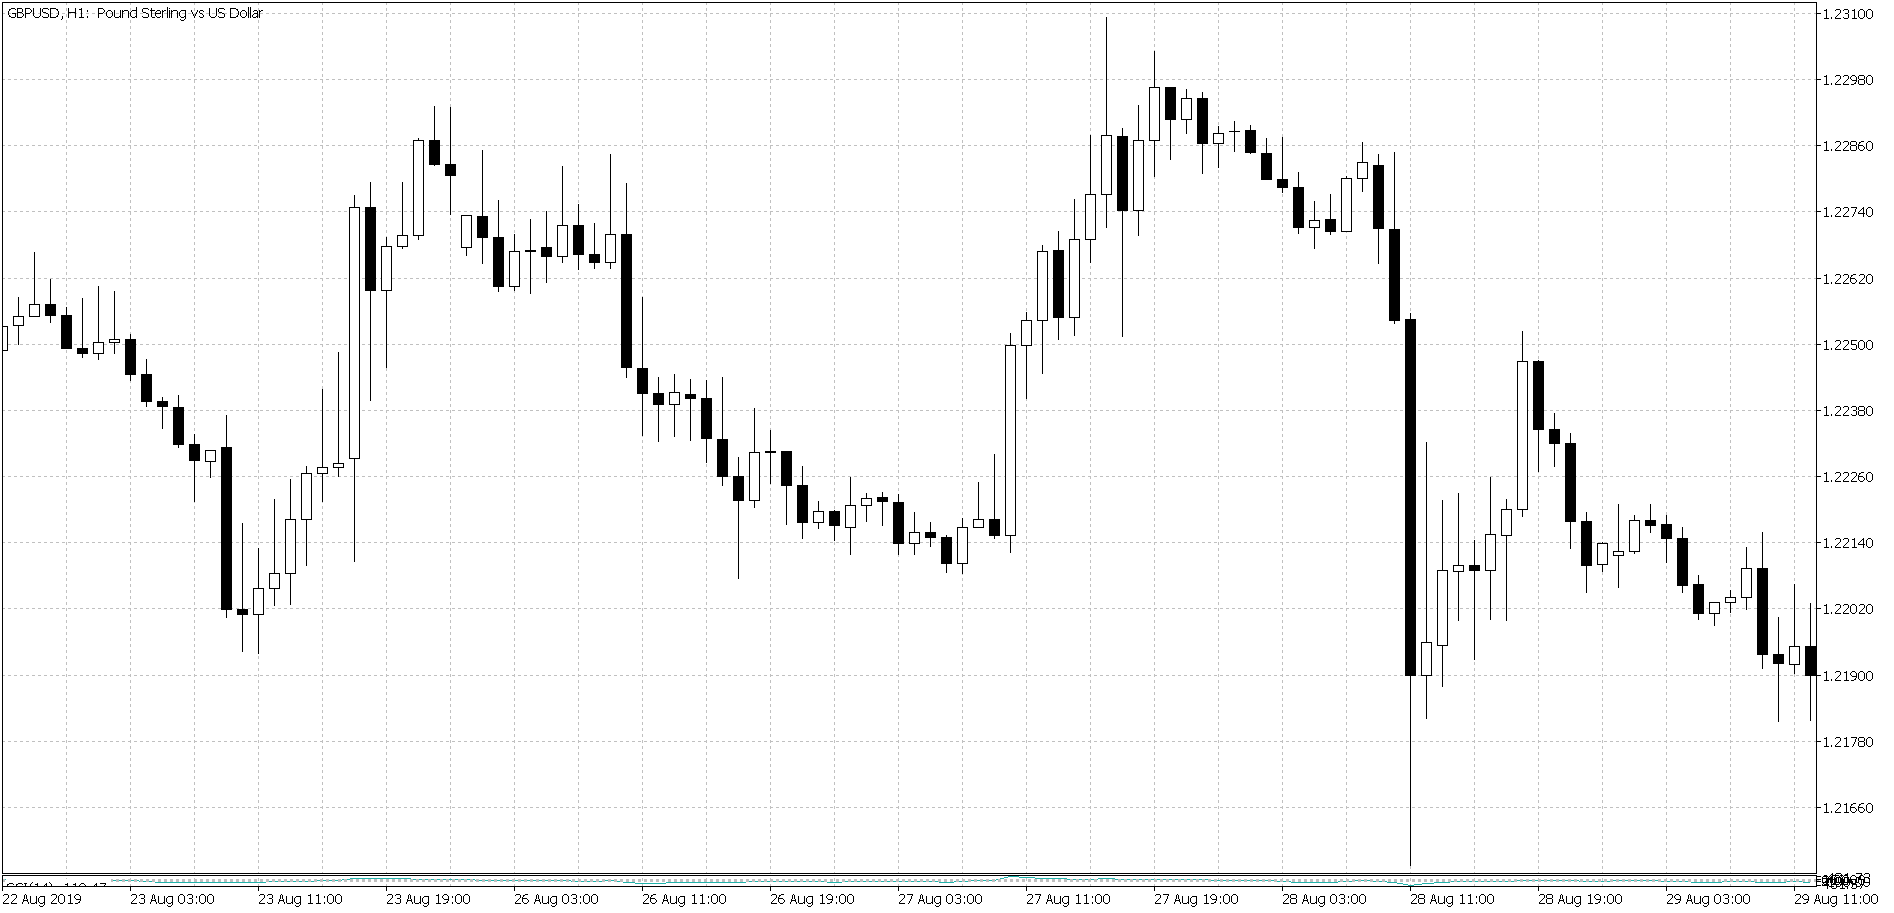morningStar: (217, 409, 266, 655)
shootingStar: (428, 101, 443, 178)
